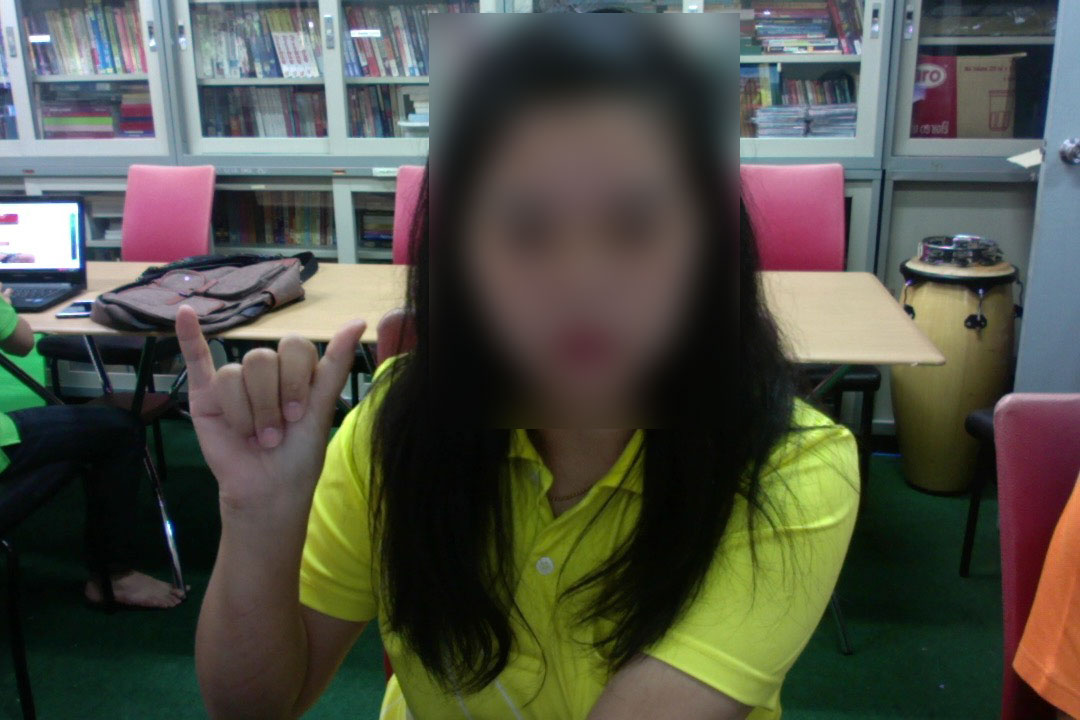yor: (165, 291, 375, 504)
